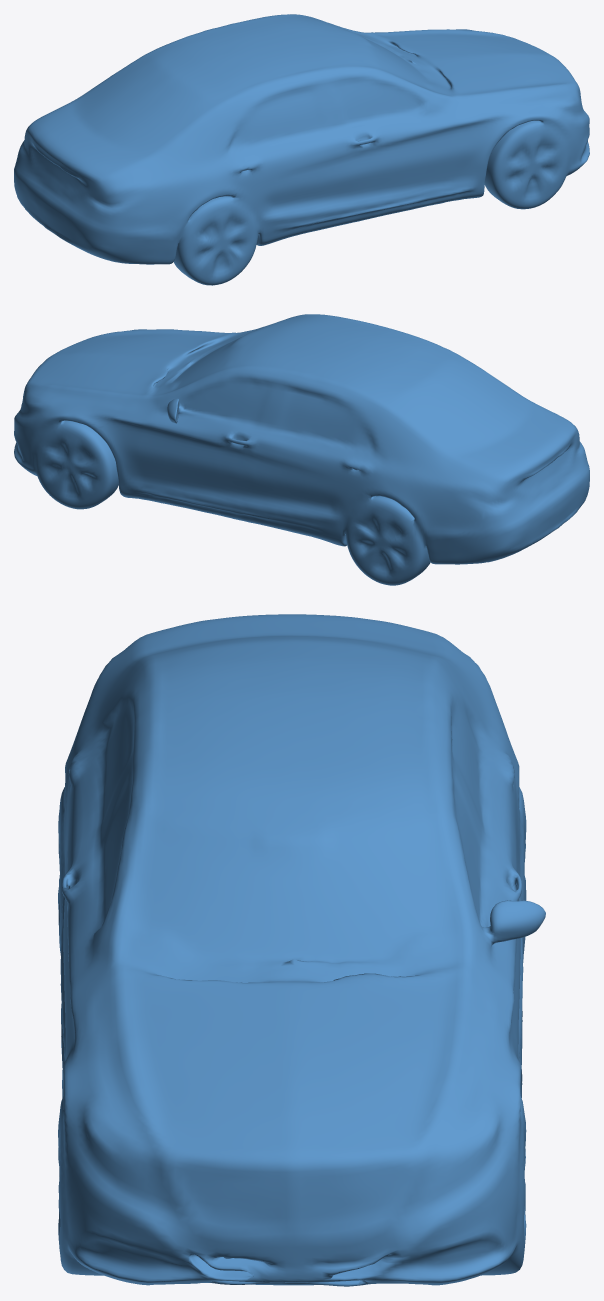
The model's file is tripo_node_009b0717.glb.
The picture shows the model from 3 angles, top to bottom: view 1: azimuth 30°, elevation 25°; view 2: azimuth 150°, elevation 25°; view 3: azimuth 270°, elevation 25°; orthographic projection. The views are drawn at different scales.
Parts seen in each view (by area): view 1: tripo_node_009b0717; view 2: tripo_node_009b0717; view 3: tripo_node_009b0717.
Part boxes in pixels (box(x1,y1,x2,y2)): tripo_node_009b0717: box(14, 14, 589, 285); tripo_node_009b0717: box(14, 314, 589, 585); tripo_node_009b0717: box(58, 614, 545, 1286).
Size of the model in its own units: 0.9998 by 0.3216 by 0.4081.
